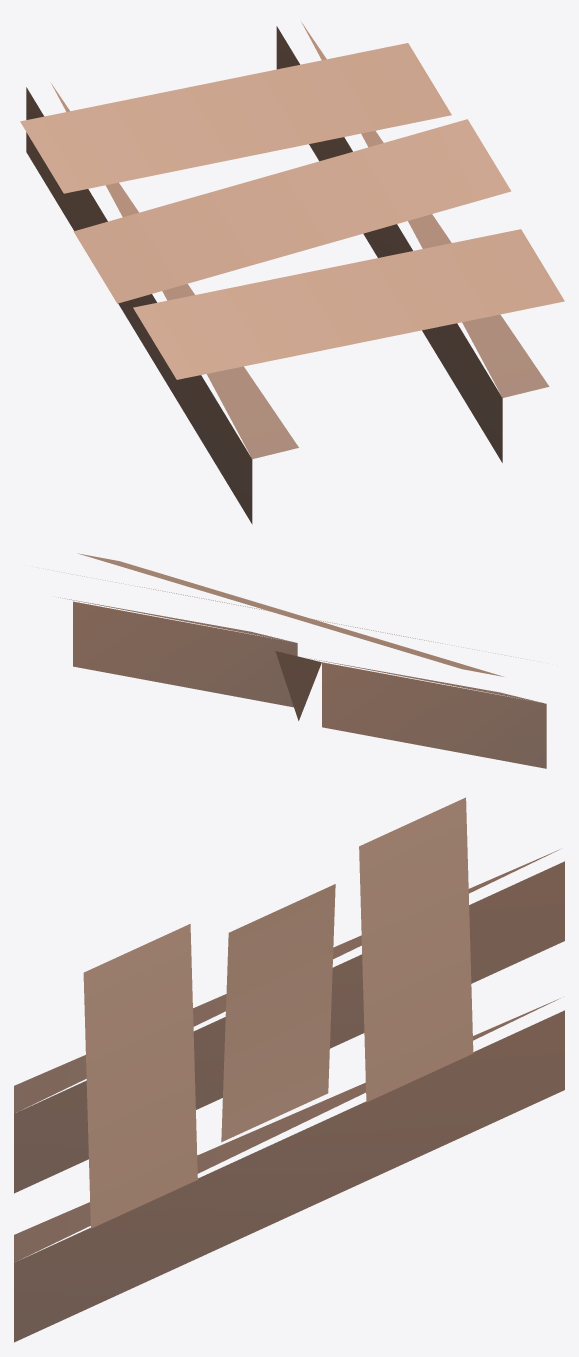
The model's file is ramp_short.glb.
3 views of the same model, one above another, from view 1: azimuth 30°, elevation 25°; view 2: azimuth 150°, elevation 25°; view 3: azimuth 270°, elevation 25° (orthographic). The views are drawn at different scales.
Visible parts, largest first — view 1: ramp_short; view 2: ramp_short; view 3: ramp_short.
Boxes of the visible parts, left/top/right/bottom form: ramp_short: left=20, top=22, right=564, bottom=524; ramp_short: left=43, top=553, right=546, bottom=768; ramp_short: left=14, top=797, right=564, bottom=1342.
Bounding box in the file's own units: 1 × 0.6816 × 1.
